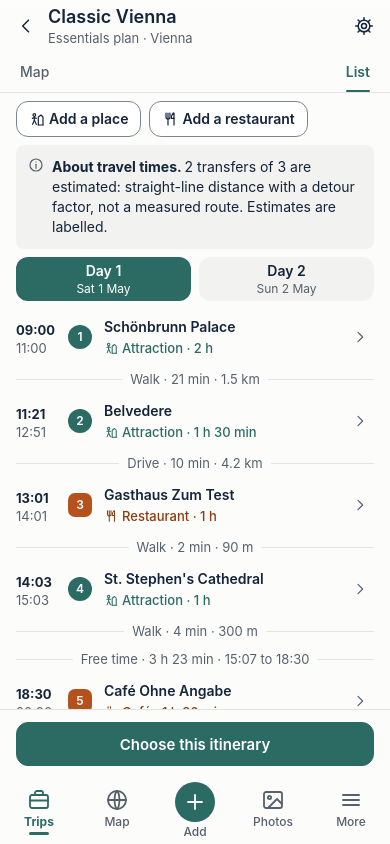
Scenario: when Photon cannot be asked, the wider search says so instead of finding nothing
The width and height of the screenshot is (390, 844).
Click the button with test id "add-place": [79, 119] box [16,101,141,137]
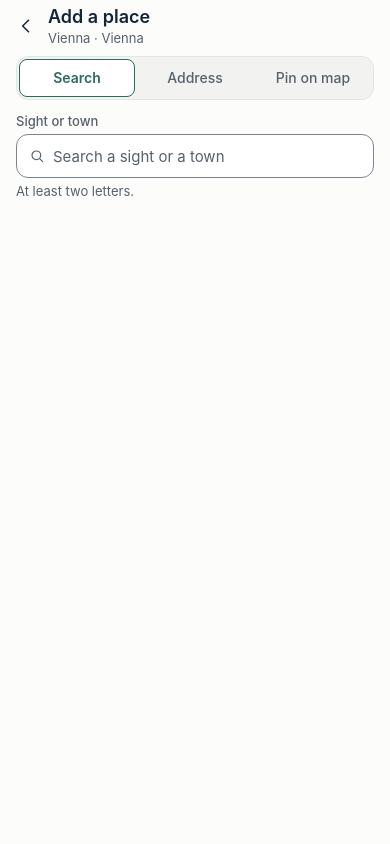
Check: the text "Add a place" is shown, box [48,6,150,27]
In the field named "Sight or town": [211, 156] box [53,135,369,177], type "Hütte"
Wait 360 ms
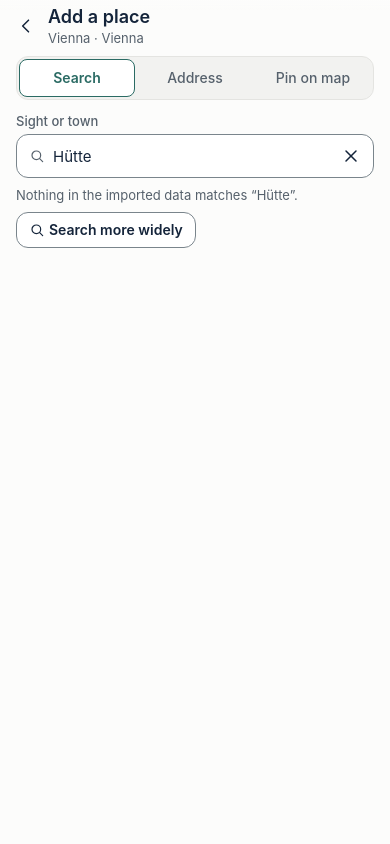
Click the button "Search more widely": [106, 230] box [16,212,196,248]
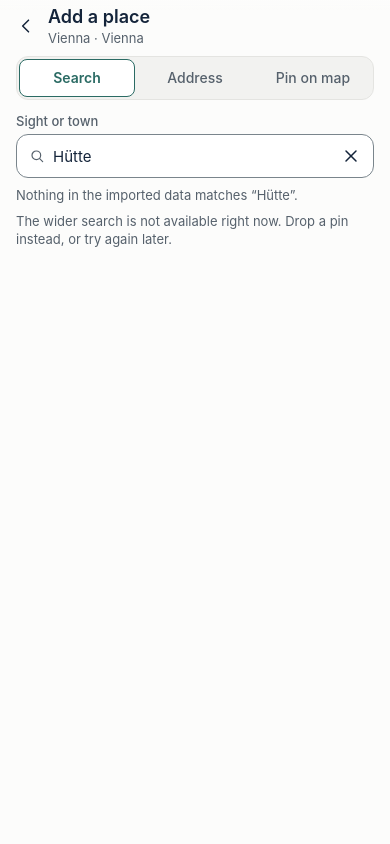
Check: the text "The wider search is not available right now. Drop a pin instead, or try again later." is shown, box [16,213,352,247]
